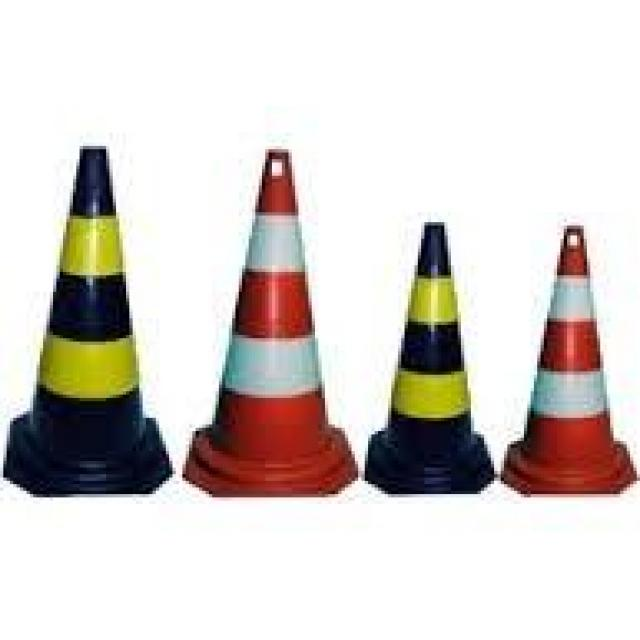cone: (183, 155, 358, 505), (9, 148, 180, 503), (358, 225, 490, 504), (494, 235, 626, 500)
